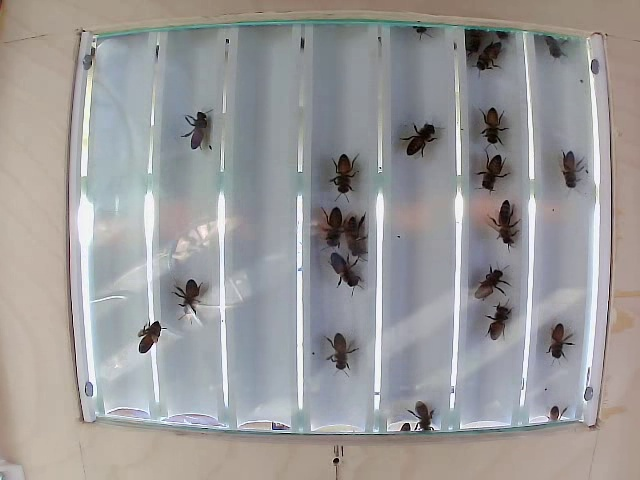bee: (412, 130, 455, 179), (470, 261, 511, 312), (323, 251, 368, 296), (325, 329, 364, 378), (485, 304, 521, 354), (492, 199, 526, 250), (325, 156, 363, 199), (541, 314, 573, 364), (180, 275, 213, 323), (344, 216, 374, 268), (479, 156, 512, 202), (185, 95, 211, 153), (315, 206, 347, 251), (554, 148, 584, 192), (480, 105, 507, 151), (421, 396, 446, 443), (477, 40, 508, 73)
